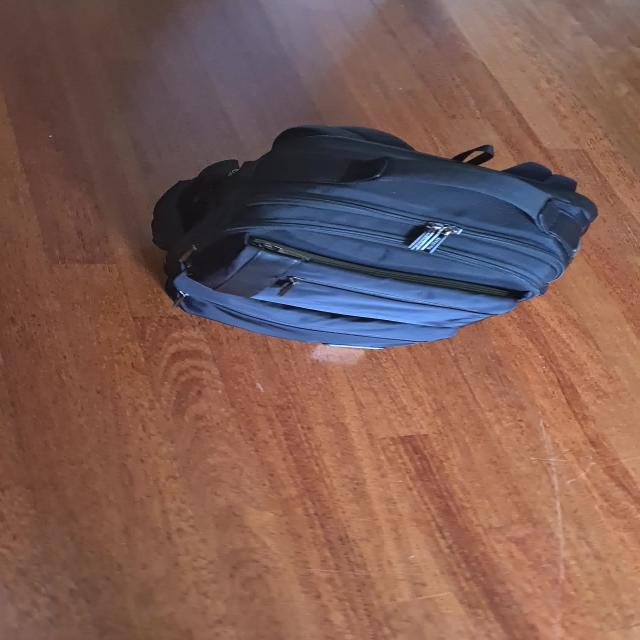backpack: (142, 114, 607, 352)
